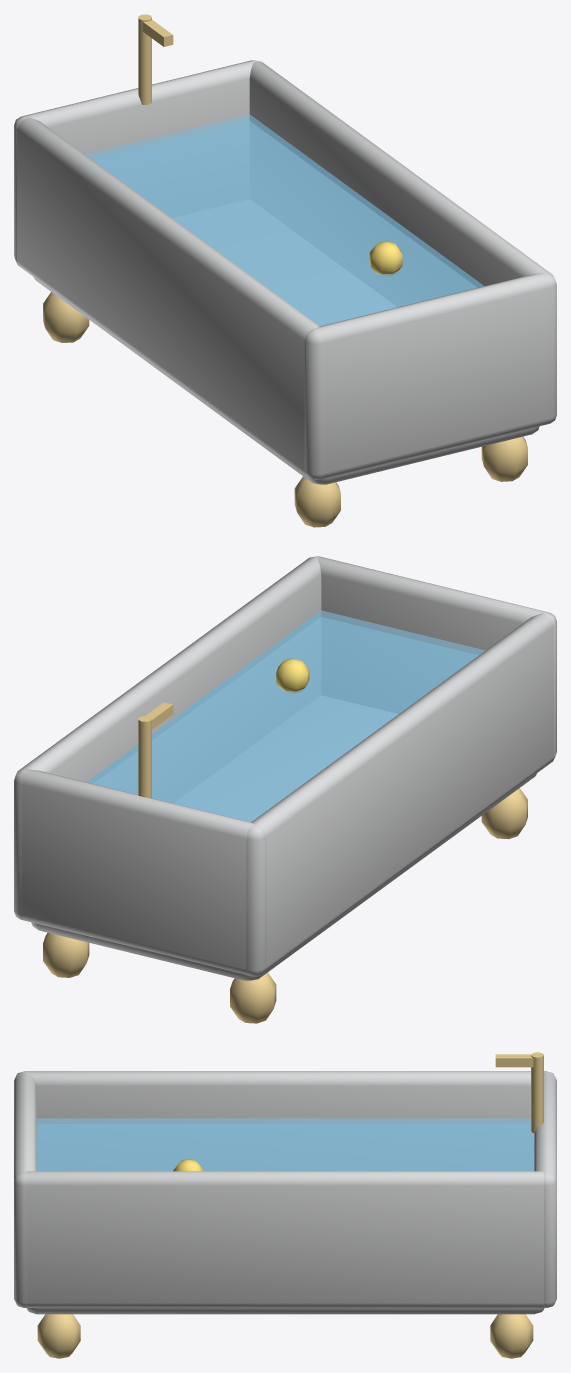
3 renders of one model, top to bottom at view 1: azimuth 30°, elevation 25°; view 2: azimuth 150°, elevation 25°; view 3: azimuth 270°, elevation 25°, orthographic. The views are drawn at different scales.
Parts seen in each view (by area): view 1: Decor_bathtub; view 2: Decor_bathtub; view 3: Decor_bathtub.
Part boxes in pixels (<box>): Decor_bathtub: <box>14,14,556,527</box>; Decor_bathtub: <box>14,556,556,1023</box>; Decor_bathtub: <box>14,1052,556,1358</box>.
Size of the model in its own units: 0.8 by 0.894 by 1.68.
